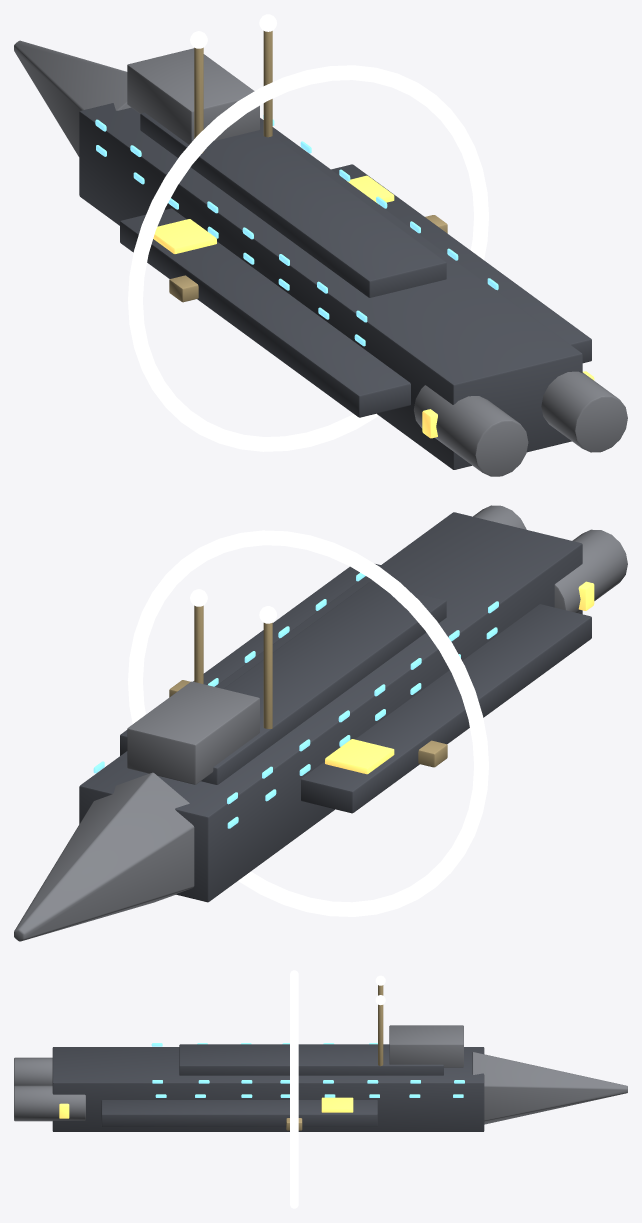
File: frigate.glb
3 renders of one model, top to bottom at view 1: azimuth 30°, elevation 25°; view 2: azimuth 150°, elevation 25°; view 3: azimuth 270°, elevation 25°, orthographic. The views are drawn at different scales.
Parts seen in each view (by area): view 1: frigate; view 2: frigate; view 3: frigate.
Boxes of the visible parts, <box> form: frigate: <box>14,14,627,476</box>; frigate: <box>14,505,627,941</box>; frigate: <box>14,970,627,1208</box>.
Size of the model in its own units: 8.3 by 8.3 by 21.35.
